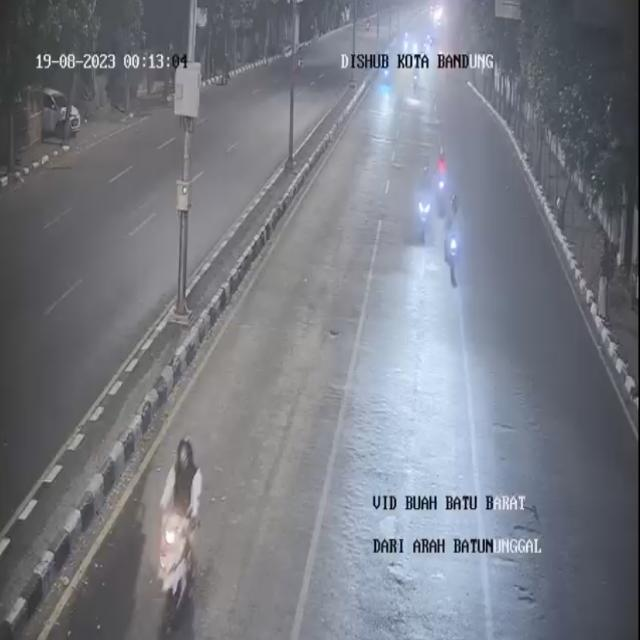motorcycle: (144, 437, 215, 634), (446, 192, 466, 288), (434, 140, 450, 227), (418, 166, 434, 251)
